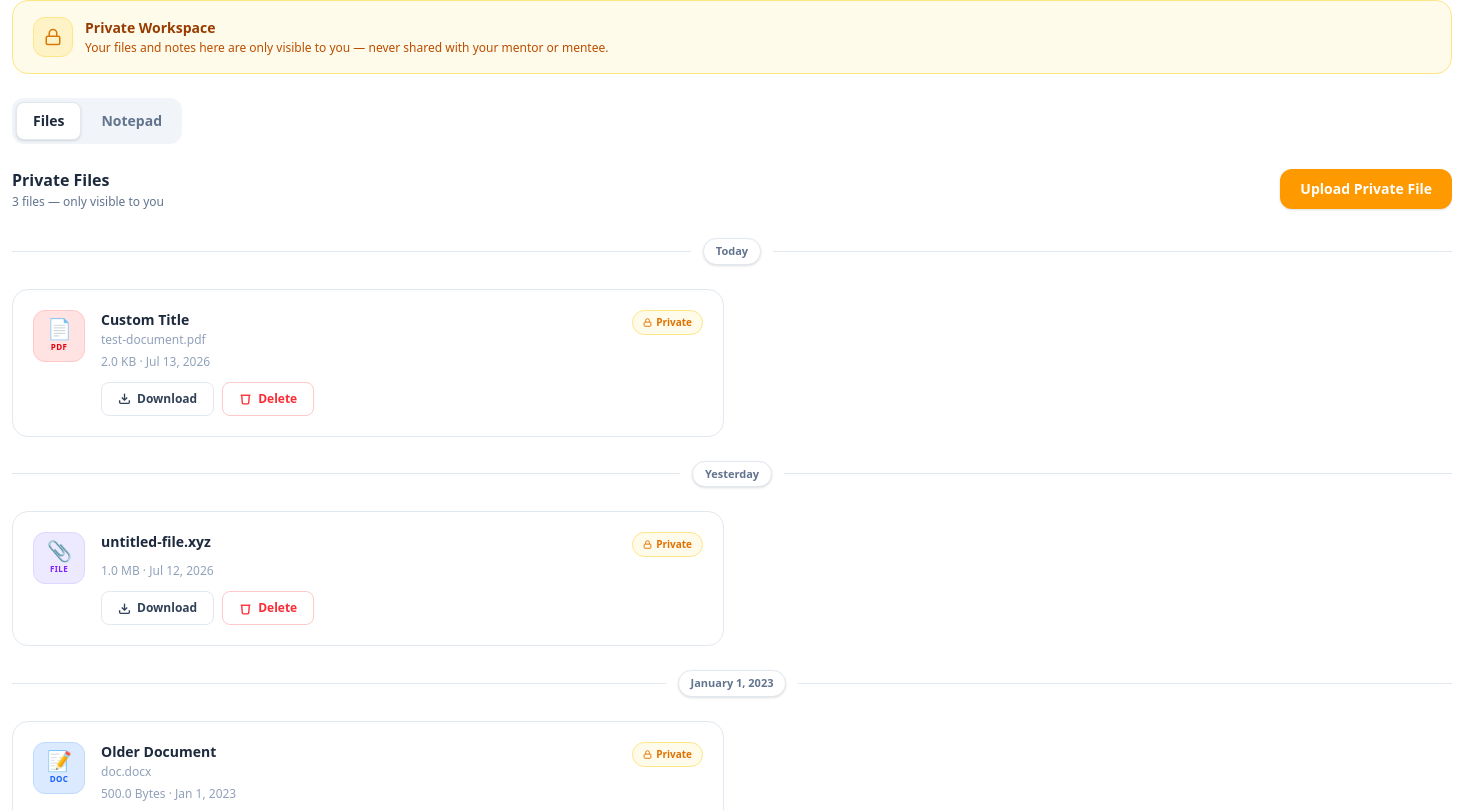
Test: PrivateNotesTab Component & Children › should render root layout and support swapping sub-tabs
The width and height of the screenshot is (1464, 810).
Expected: the text "Private Workspace" is shown, [85, 18, 216, 37]
Expected: the heading "Private Files" is shown, [12, 169, 110, 191]
Click the button "Notepad" at (132, 121), box [86, 103, 178, 139]
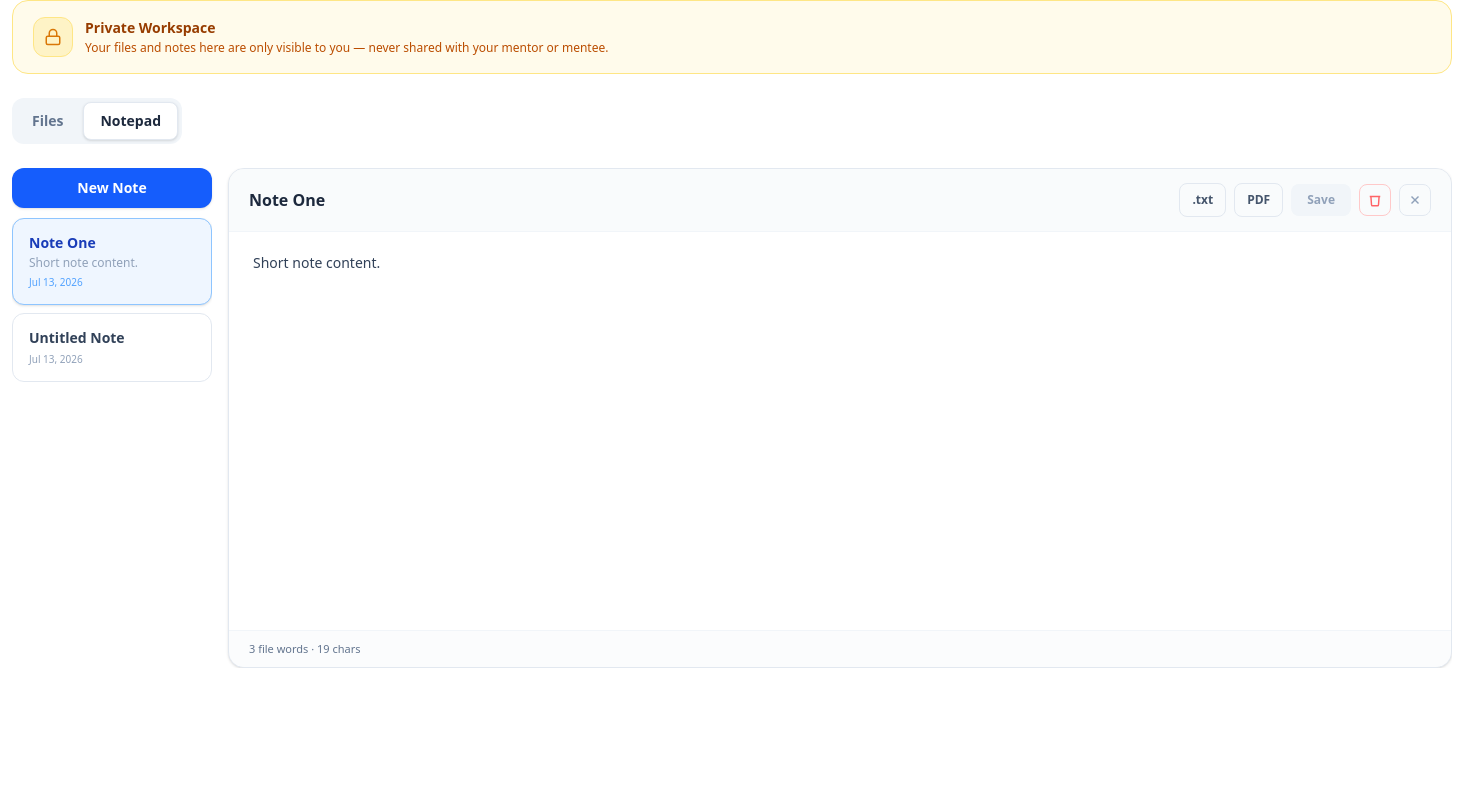
Expected: the heading "Private Files" is gone
Expected: the field with placeholder "Note title..." is shown, [249, 188, 1163, 212]
